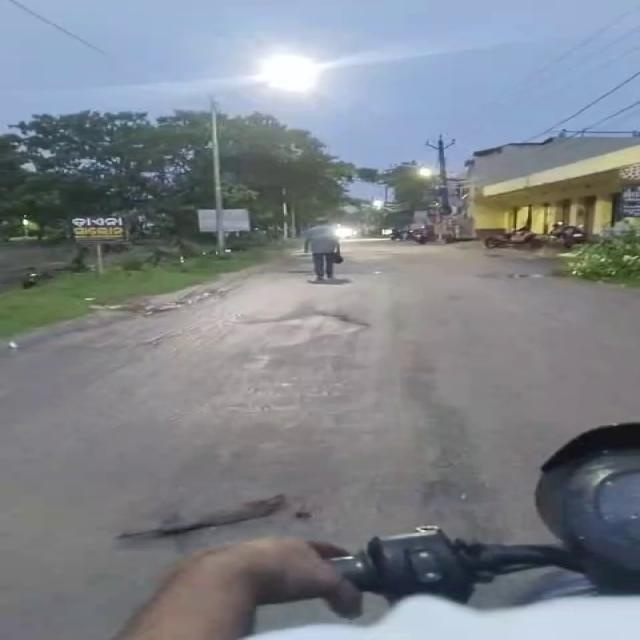pothole: (238, 309, 370, 352), (485, 272, 548, 279)
